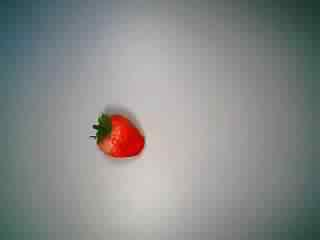strawberry: (84, 102, 152, 166)
